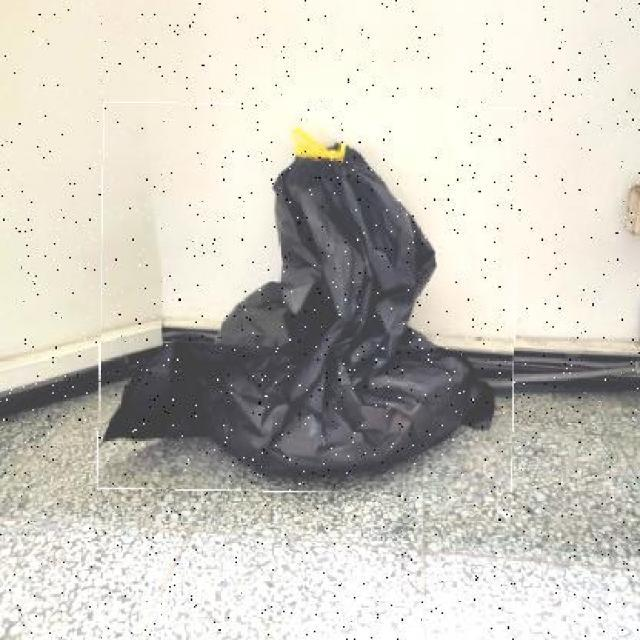waste: (98, 103, 516, 492)
